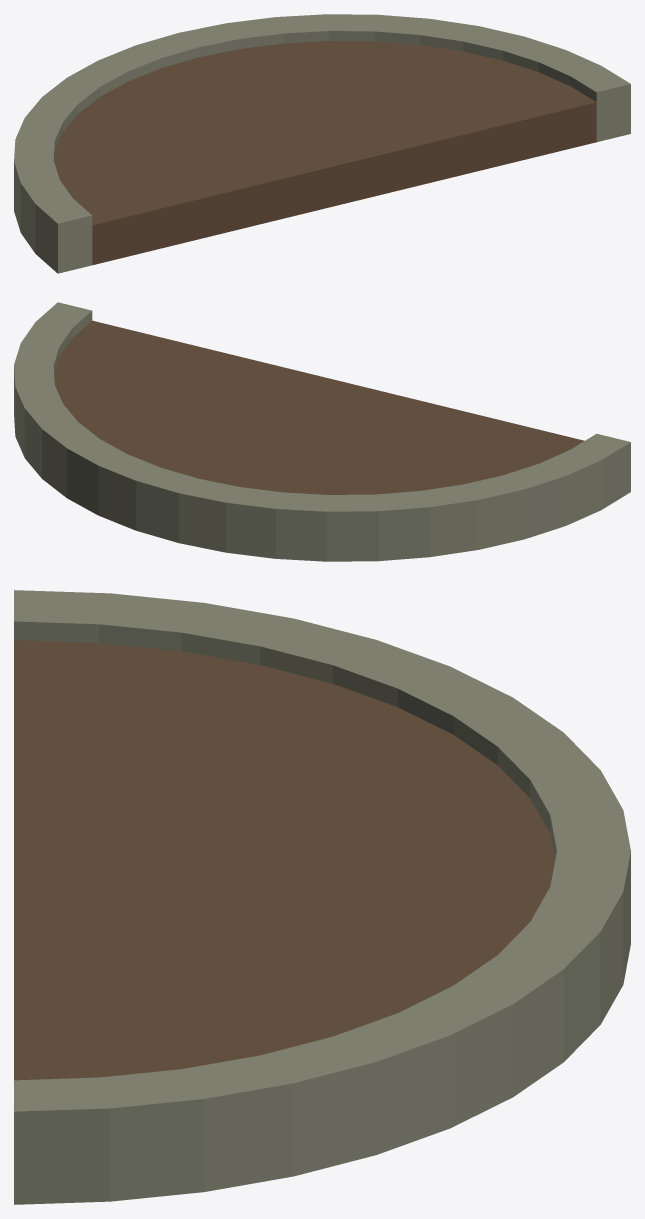
Rendered from center_start.fbx.
3 renders of one model, top to bottom at view 1: azimuth 30°, elevation 25°; view 2: azimuth 150°, elevation 25°; view 3: azimuth 270°, elevation 25°, orthographic. The views are drawn at different scales.
Visible parts, largest first — view 1: center_start; view 2: center_start; view 3: center_start.
Part boxes in pixels (x1,y1,x2,y2): center_start: (14, 14, 630, 273); center_start: (14, 302, 630, 561); center_start: (14, 590, 630, 1204).
Size of the model in its own units: 3 by 0.25 by 1.5.
